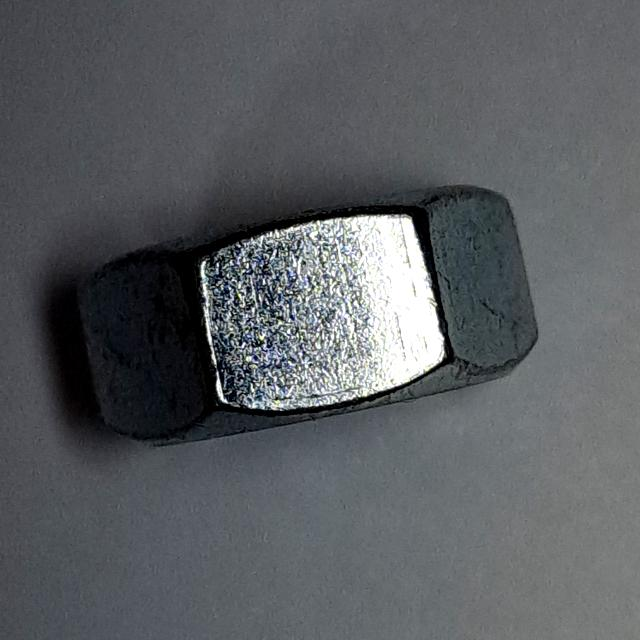Side_Excellent: (66, 166, 562, 475)
